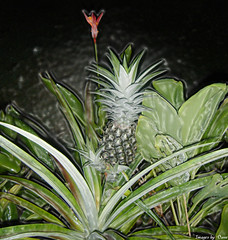Pineapple: (90, 45, 165, 170)
